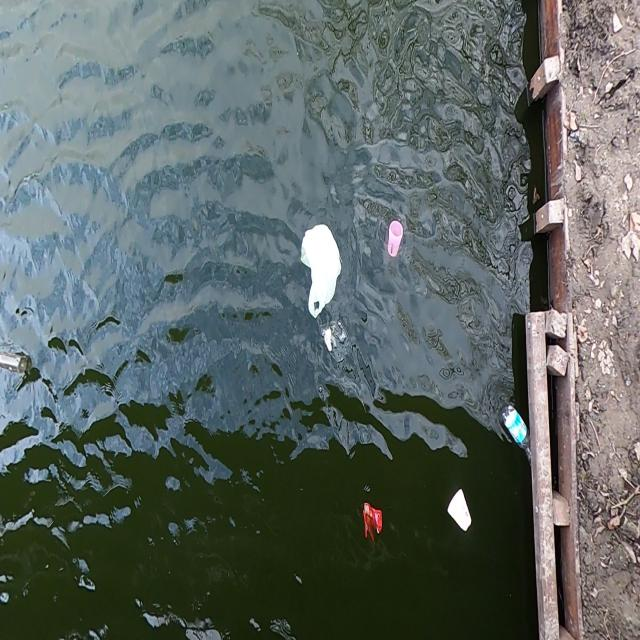Autre plastique: (386, 217, 405, 263)
Non plastique: (448, 489, 472, 537)
Sac plastique: (296, 220, 346, 322)
